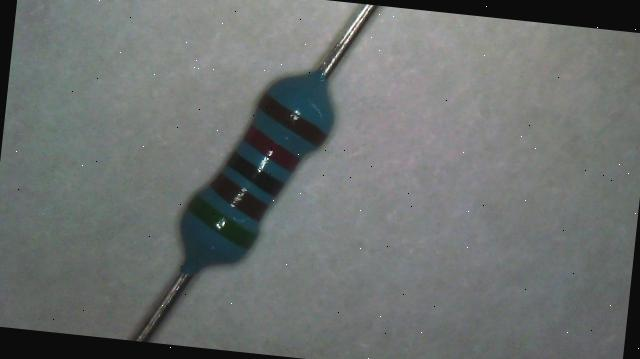black: (224, 150, 286, 196)
brown: (256, 92, 330, 146), (208, 172, 270, 220)
green: (185, 194, 258, 248)
red: (242, 125, 304, 172)
resistor: (162, 54, 348, 289)
